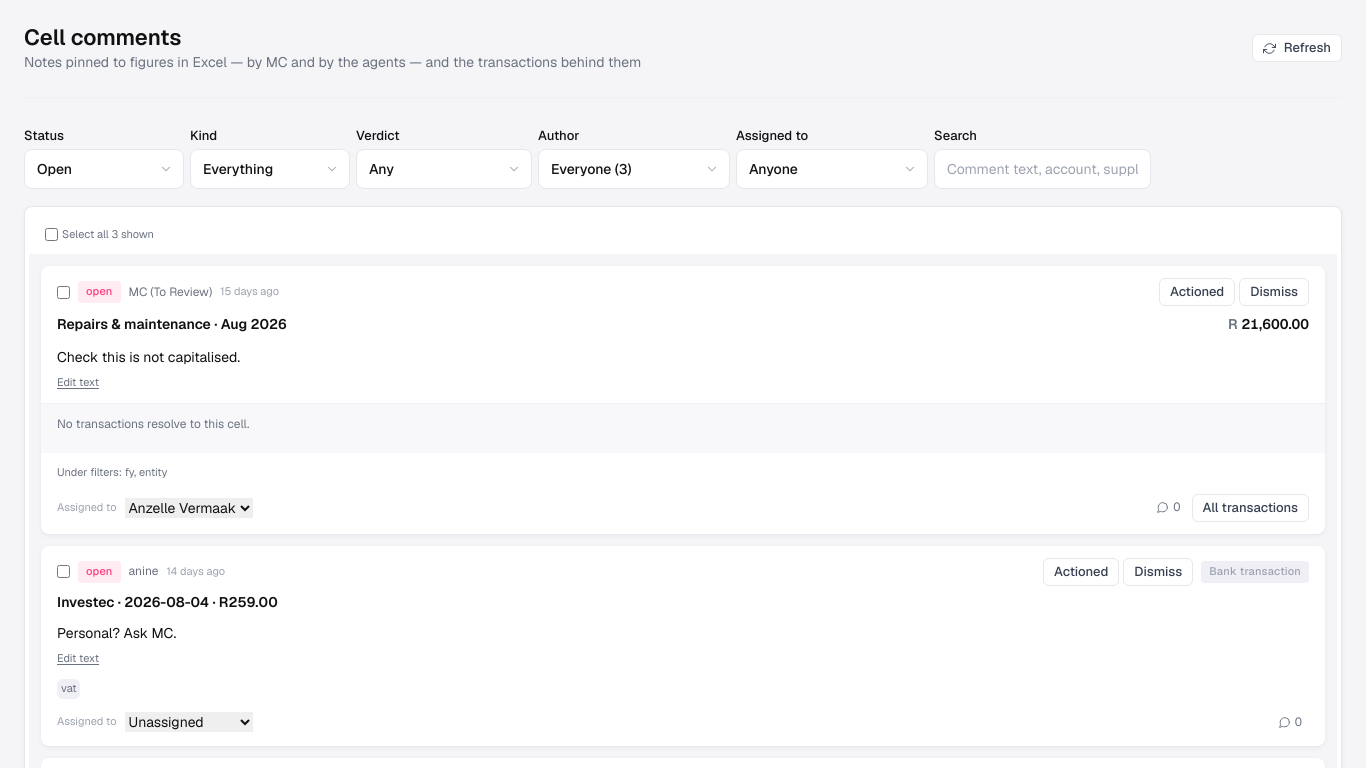
Test: AuditComments — bulk assign › shows no bar until something is selected
Click the checkbox with test id "cc-pick-41" at (64, 292), box [57,286,70,299]
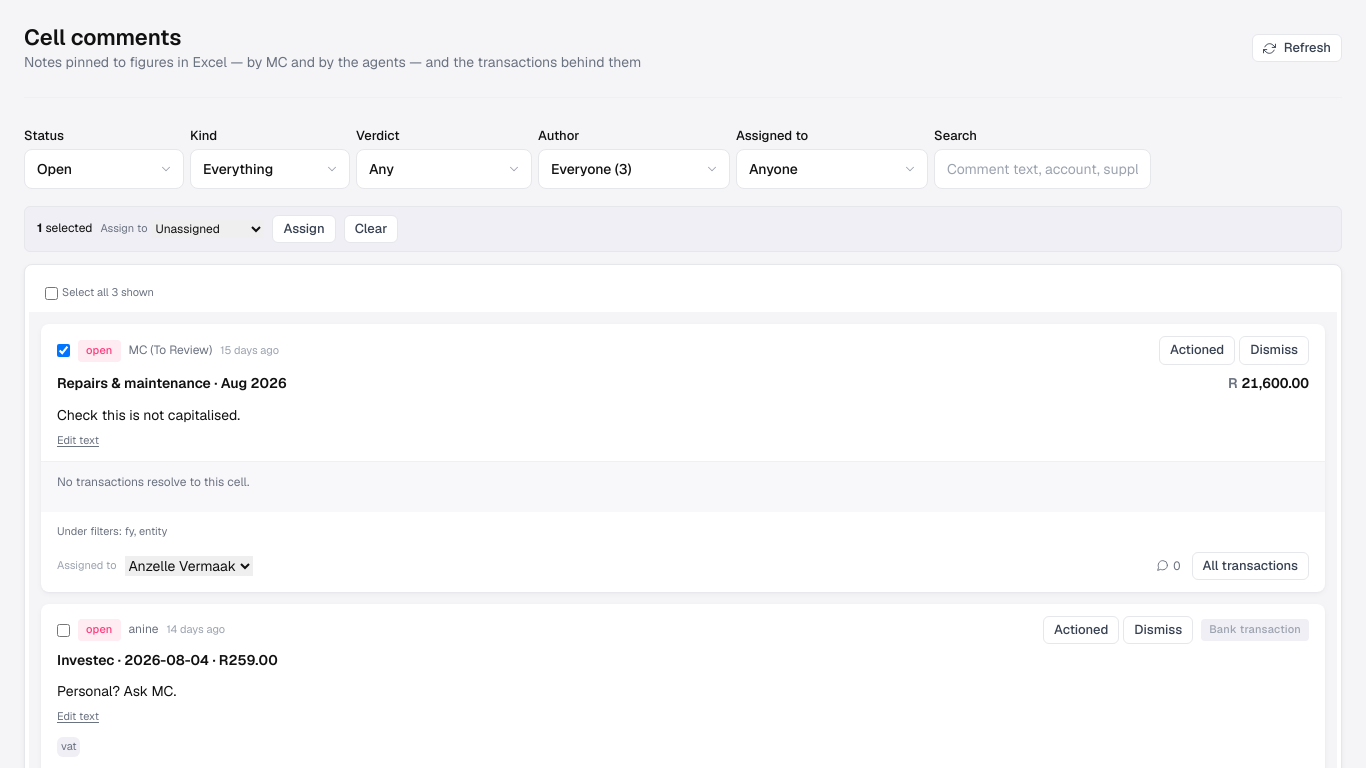
Result: the element with test id "cc-bulk" shows "1 selected" at [24,206,1342,252]
